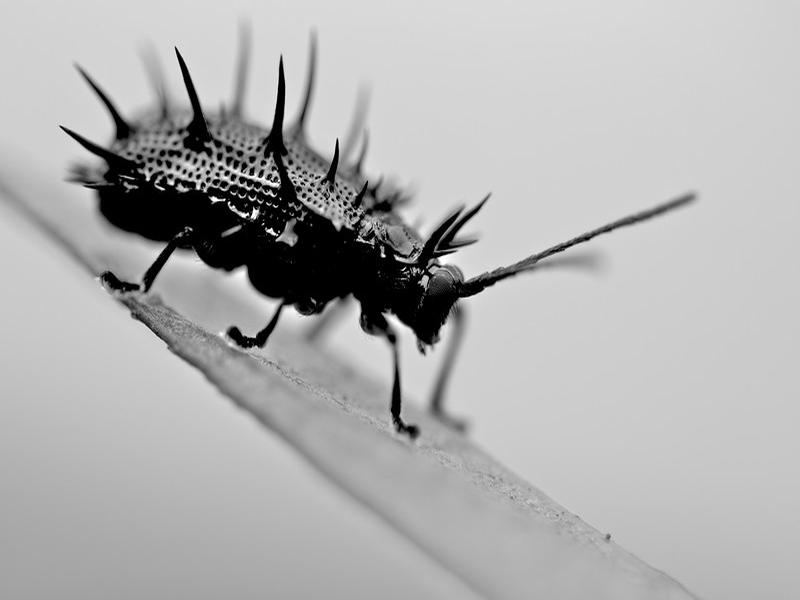Spiny_beetle: (79, 74, 497, 374)
